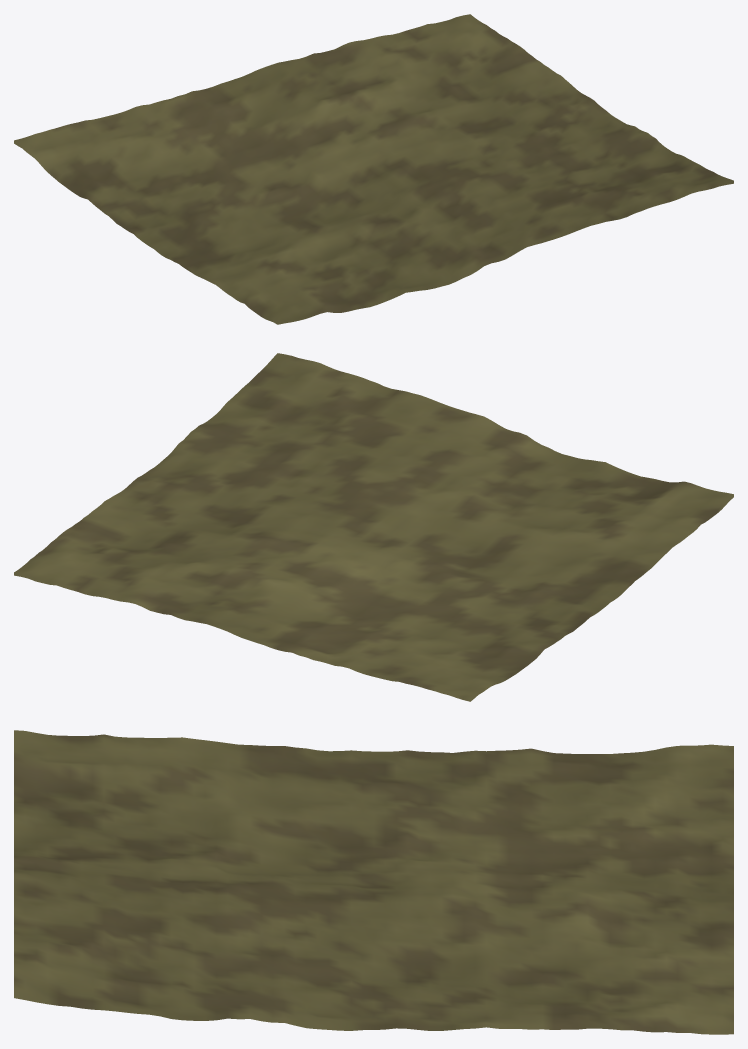
File: land_f_05_07.glb
3 renders of one model, top to bottom at view 1: azimuth 30°, elevation 25°; view 2: azimuth 150°, elevation 25°; view 3: azimuth 270°, elevation 25°, orthographic. The views are drawn at different scales.
Parts seen in each view (by area): view 1: land_f_05_07; view 2: land_f_05_07; view 3: land_f_05_07.
Boxes of the visible parts, <box> form: land_f_05_07: <box>14,14,733,324</box>; land_f_05_07: <box>14,353,733,701</box>; land_f_05_07: <box>14,730,733,1034</box>.
Bounding box in the file's own units: 3840 × 411 × 3840.
